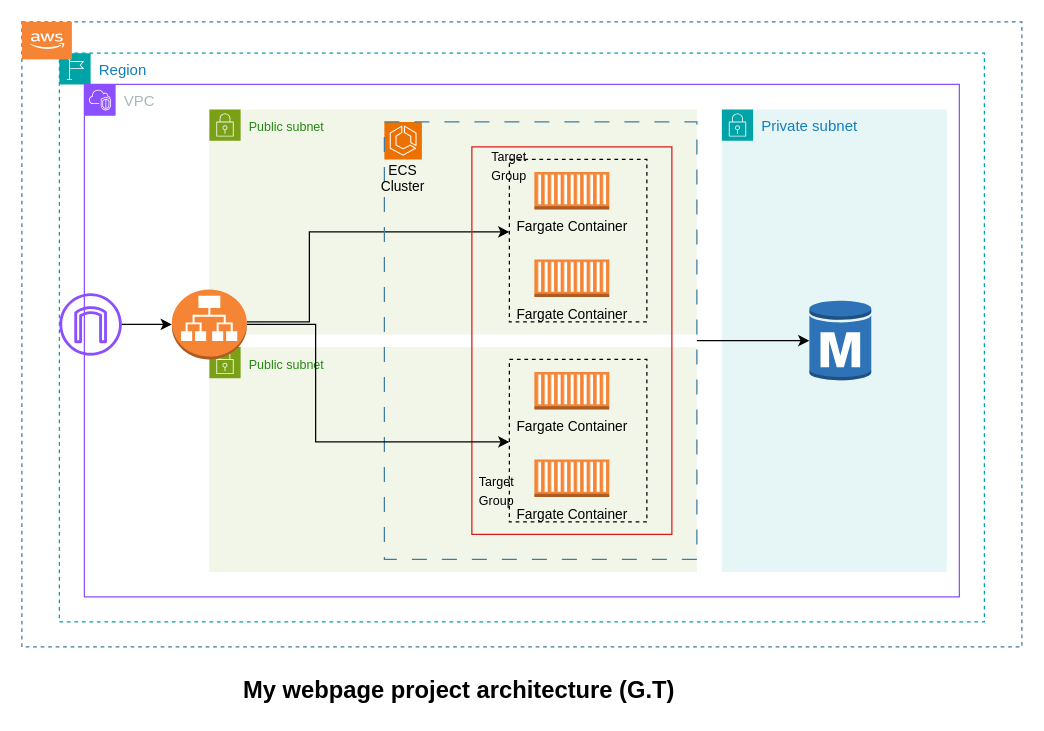
Some shapes in this 1044 by 731 pixel diagram are drawn without their labels. The box of each missing label's shape, as (x1, y1, x2, y2) in pixels:
ALB: (171, 288, 247, 359)
IGW: (59, 292, 121, 355)
RDS: (808, 298, 871, 382)
